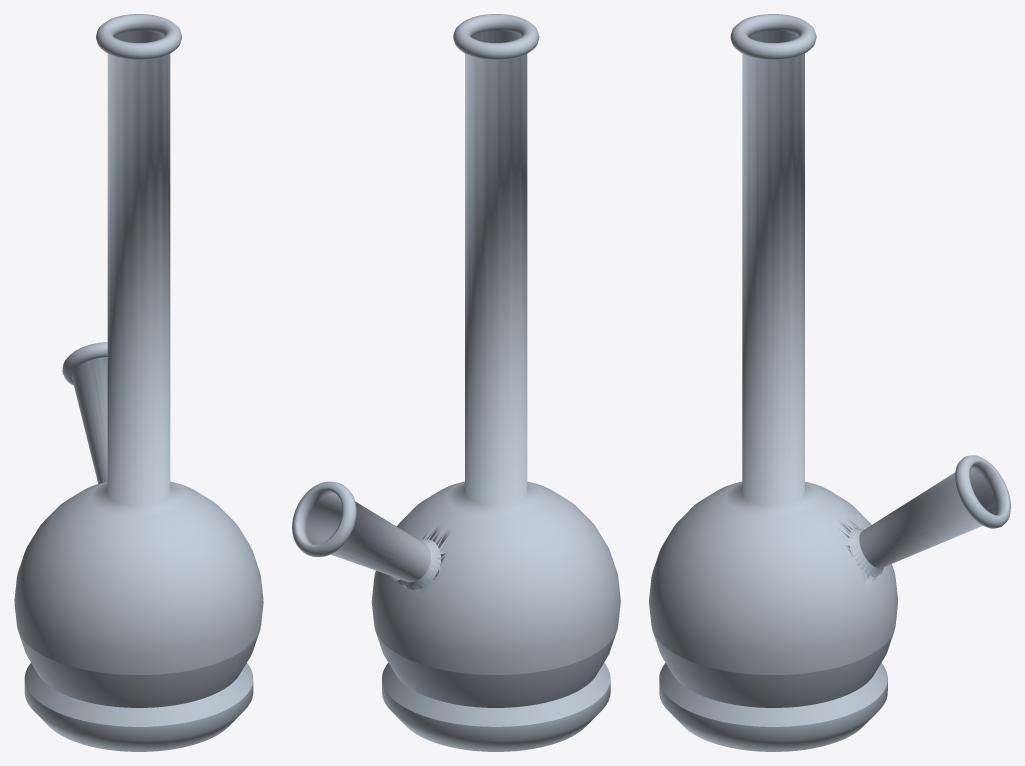
The model's file is bong.glb.
3 views of the same model, side by side, from view 1: azimuth 30°, elevation 25°; view 2: azimuth 150°, elevation 25°; view 3: azimuth 270°, elevation 25° (orthographic).
Visible parts, largest first — view 1: Sphere.001_1; view 2: Sphere.001_1; view 3: Sphere.001_1.
Boxes of the visible parts, box(x1,y1,x2,y2) form: Sphere.001_1: box(14, 14, 263, 751); Sphere.001_1: box(292, 14, 620, 751); Sphere.001_1: box(649, 14, 1010, 751).
Size of the model in its own units: 2 by 6.04 by 2.9.
